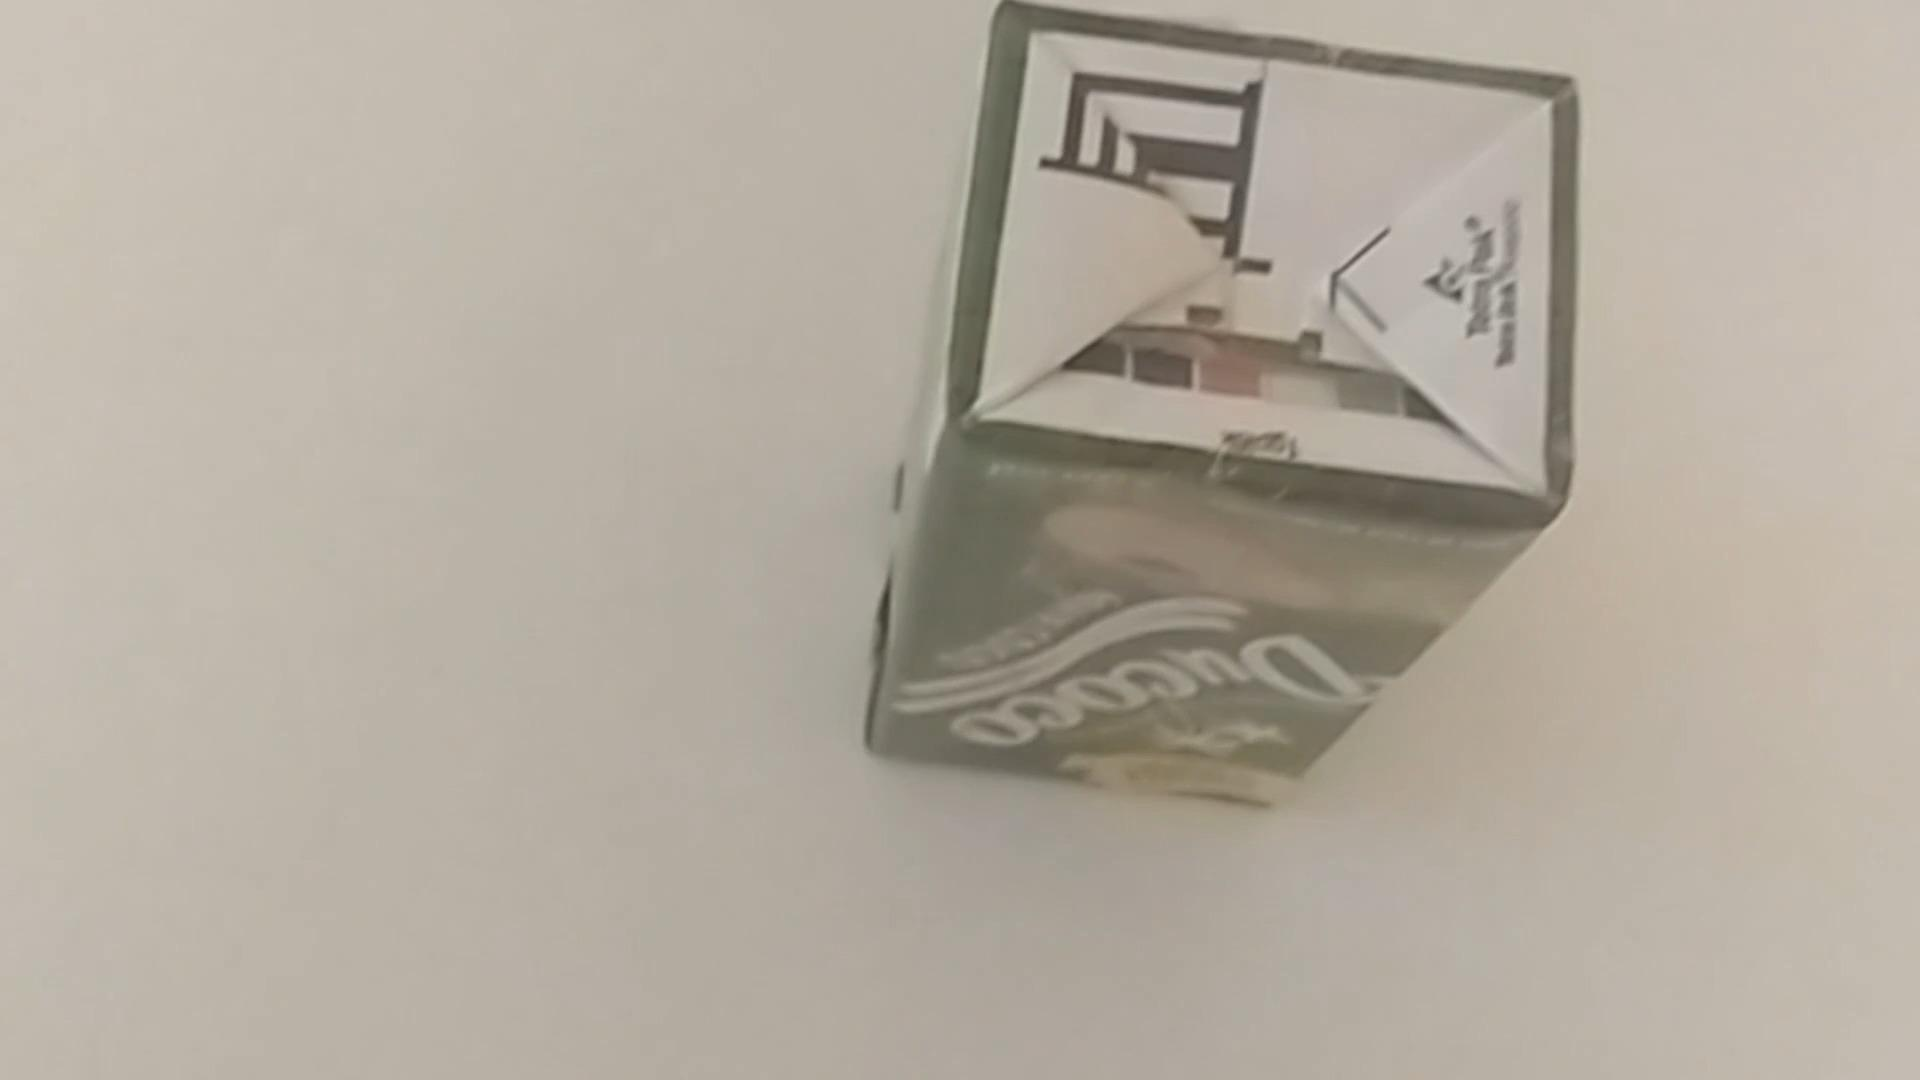coco: (860, 7, 1573, 807)
